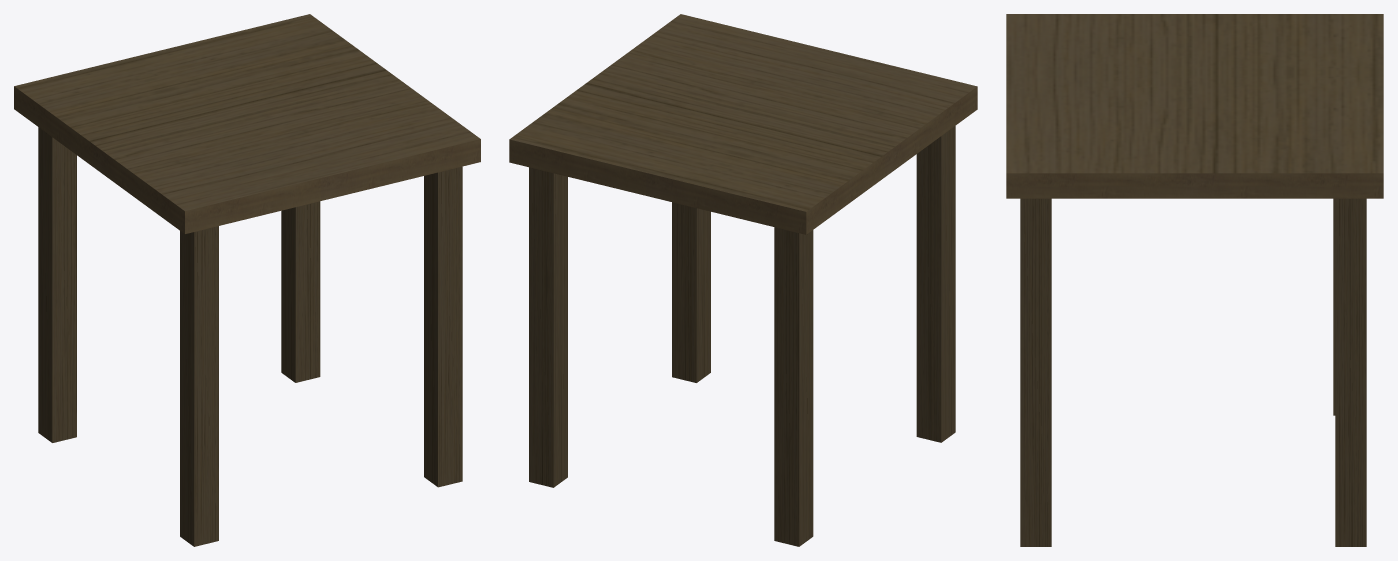
File: tisch.fbx
The picture shows the model from 3 angles, left to right: view 1: azimuth 30°, elevation 25°; view 2: azimuth 150°, elevation 25°; view 3: azimuth 270°, elevation 25°; orthographic projection. The views are drawn at different scales.
Parts seen in each view (by area): view 1: tisch; view 2: tisch; view 3: tisch.
Boxes of the visible parts, box(x1,y1,x2,y2) form: tisch: box(14, 14, 480, 546); tisch: box(509, 14, 977, 546); tisch: box(1006, 14, 1383, 546).
Bounding box in the file's own units: 90 × 100 × 90.
